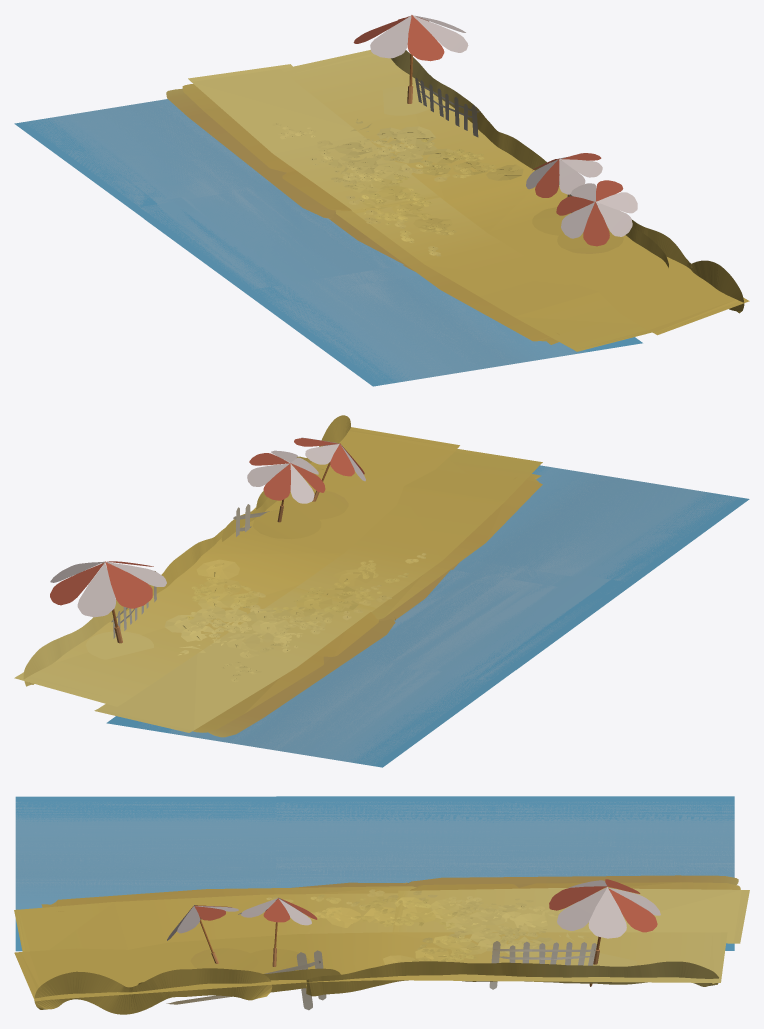
File: Beach.fbx
3 views of the same model, one above another, from view 1: azimuth 30°, elevation 25°; view 2: azimuth 150°, elevation 25°; view 3: azimuth 270°, elevation 25° (orthographic). The views are drawn at different scales.
Visible parts, largest first — view 1: Beach, Waves1; view 2: Beach, Waves1; view 3: Beach, Waves1.
Part boxes in pixels (x1,y1,x2,y2): Beach: [166, 15, 749, 351]; Waves1: [14, 99, 642, 386]; Beach: [14, 415, 542, 737]; Waves1: [106, 465, 749, 767]; Beach: [14, 875, 749, 1014]; Waves1: [15, 796, 734, 951].
Size of the model in its own units: 36.11 by 10.6 by 59.47.
